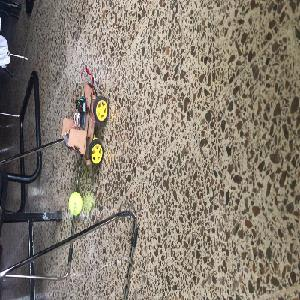Ball: (68, 192, 82, 215)
Robot: (61, 79, 108, 164)
